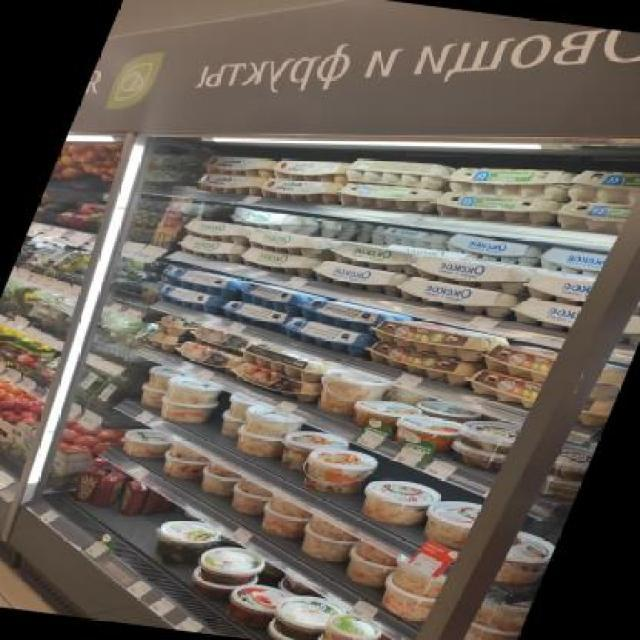egg: (445, 156, 583, 206), (369, 316, 508, 362), (356, 340, 492, 384), (432, 186, 566, 228), (395, 276, 523, 319), (182, 544, 270, 605), (407, 253, 535, 294), (292, 294, 410, 338), (353, 475, 445, 527), (226, 403, 311, 459), (332, 177, 442, 216), (142, 516, 226, 567), (296, 445, 381, 495), (270, 430, 355, 480), (310, 368, 392, 418), (308, 258, 414, 296), (260, 595, 346, 640), (278, 316, 376, 355), (155, 377, 231, 426), (442, 232, 546, 266), (326, 240, 426, 274), (245, 228, 344, 260), (161, 264, 248, 298), (226, 206, 322, 236), (235, 245, 322, 278), (349, 396, 425, 432), (257, 174, 341, 206), (451, 418, 527, 453), (217, 298, 298, 330), (238, 282, 314, 316), (391, 416, 467, 450), (272, 154, 352, 186), (150, 283, 230, 315), (178, 217, 257, 246), (200, 151, 278, 180), (192, 170, 268, 198), (536, 247, 606, 276), (68, 460, 112, 506), (90, 464, 134, 510), (172, 234, 248, 260)
